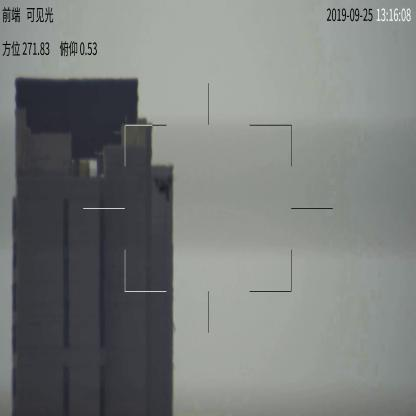uav: (150, 172, 172, 202)
